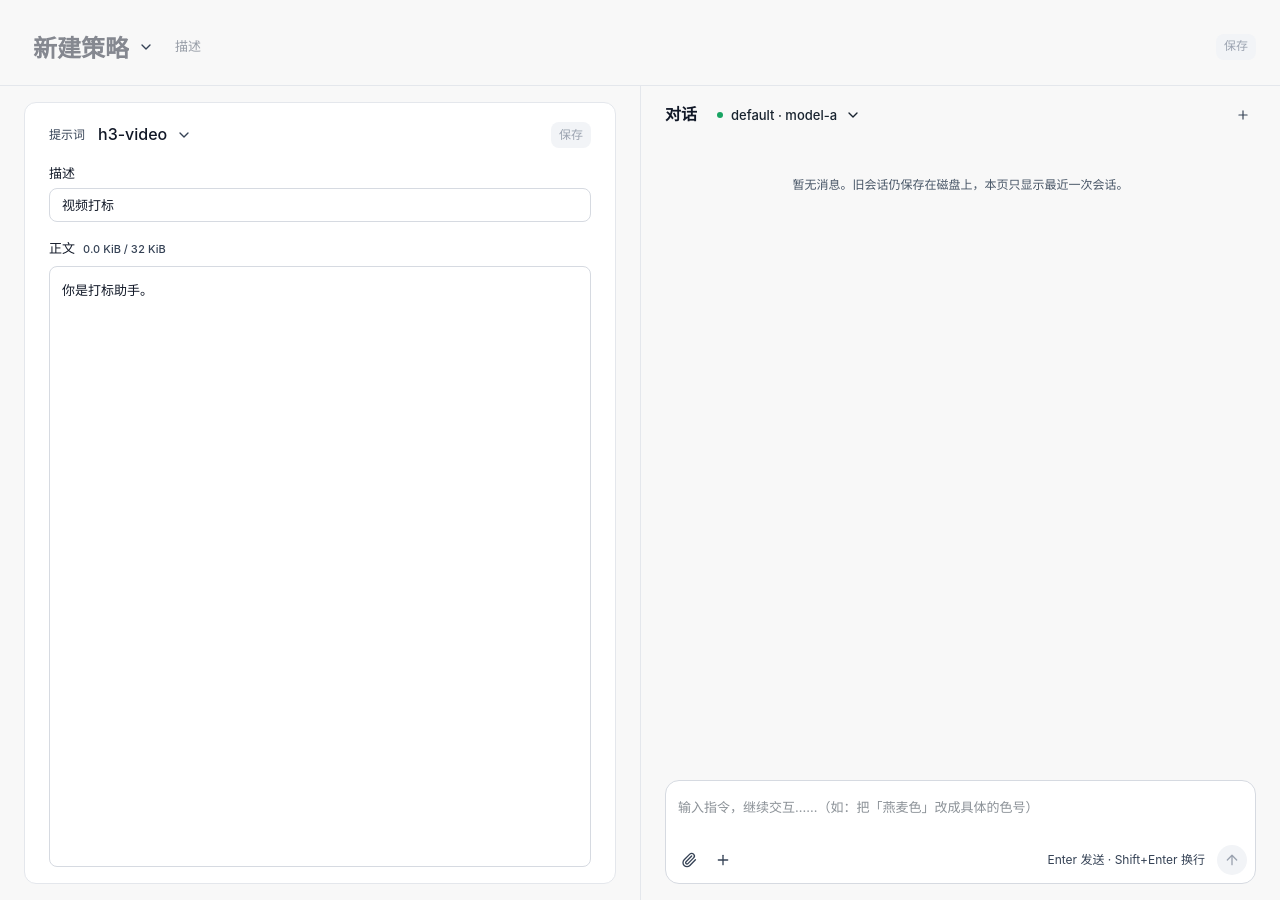
it: PromptWorkbench › 提示词草稿锁定策略切换，保存后应用完整组合
expect the field named "名称" holds "h3-video": met, box [93,119,196,151]
Replace the text in the field labelled "描述" below "提示词" with "新描述": (320, 205) [49,188,591,222]
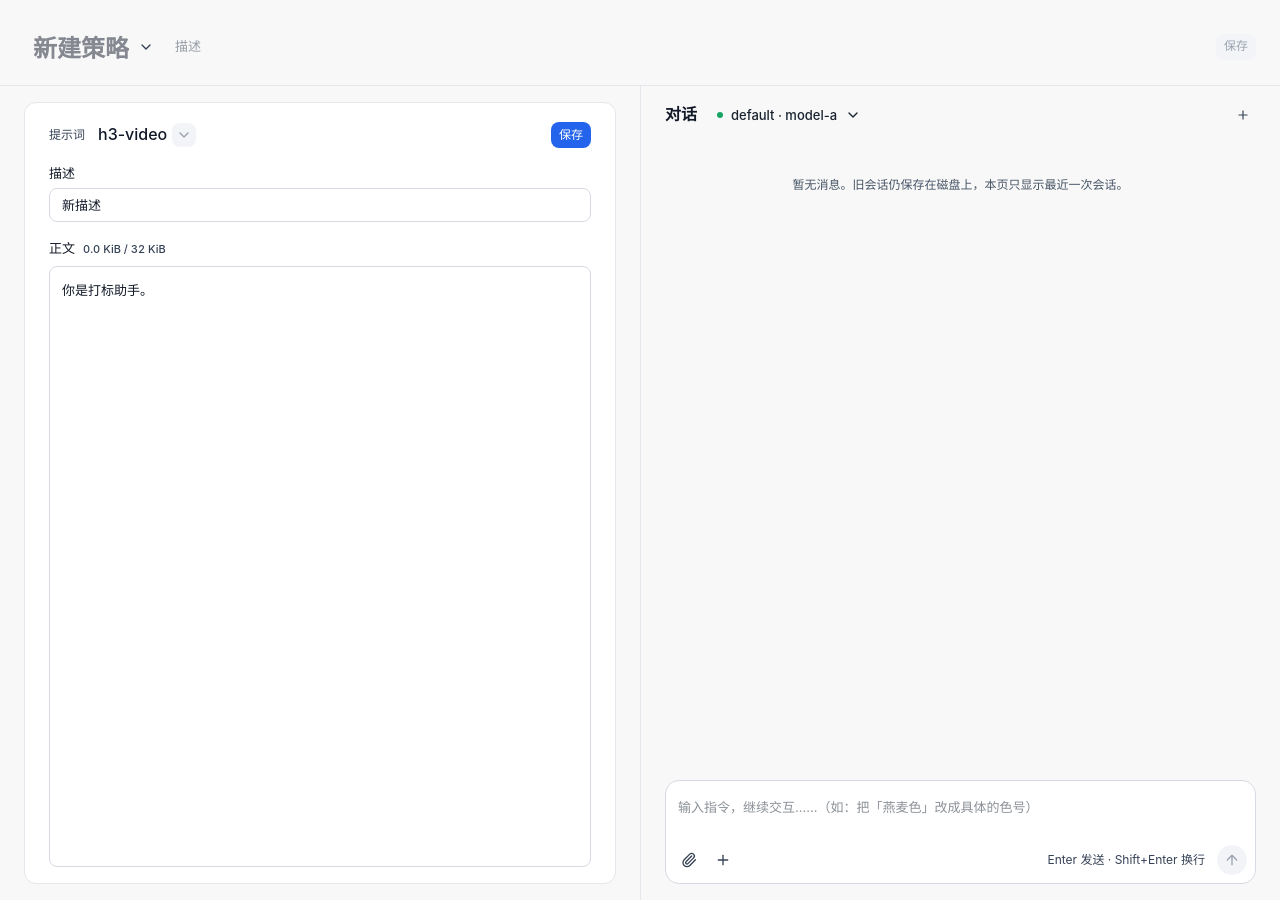
expect the button named "切换提示词" is disabled: met, box [172,123,196,147]
Click the button "保存" in the row of "提示词": (571, 135) [551,122,591,148]
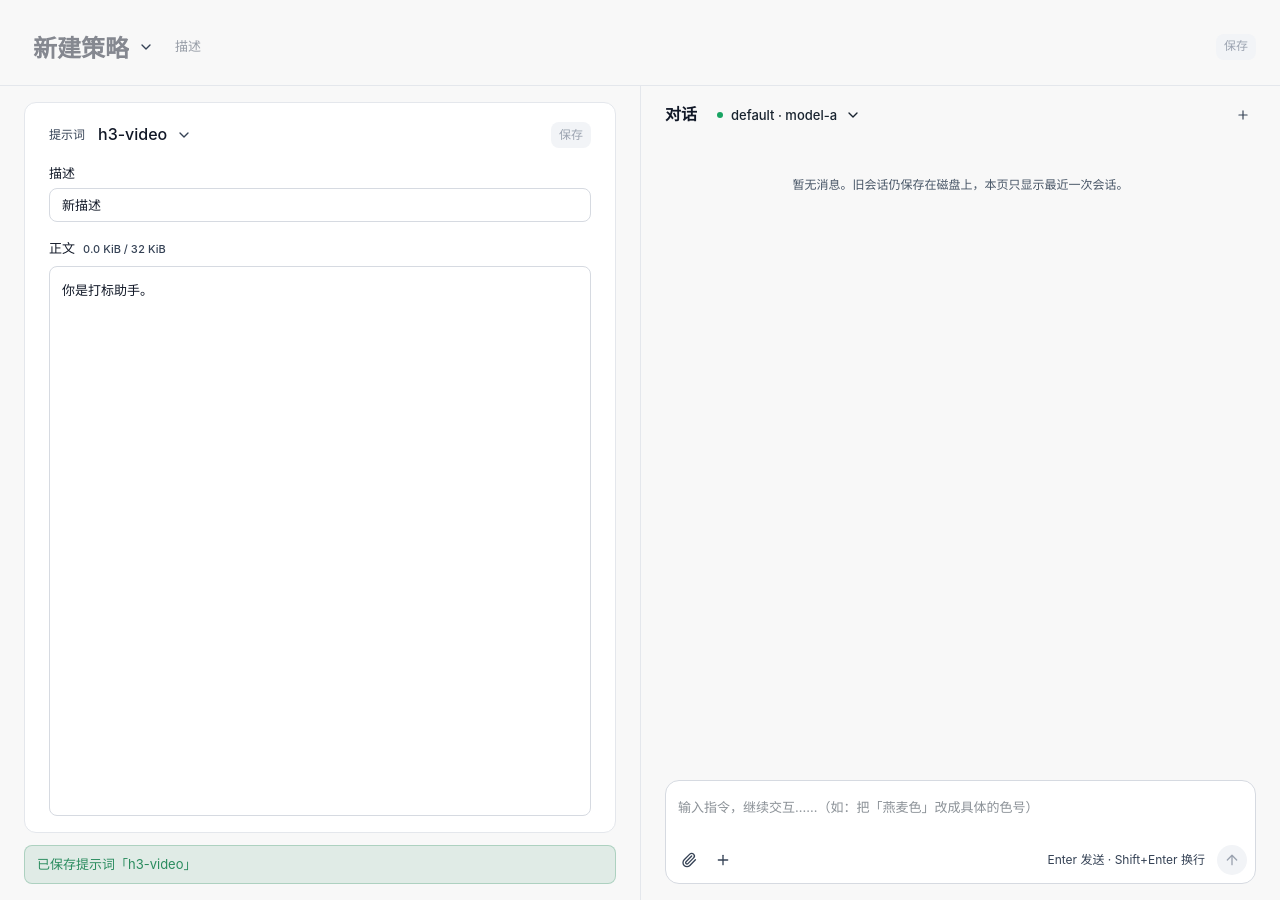
Click the button named "切换策略": (146, 46) [134,34,158,58]
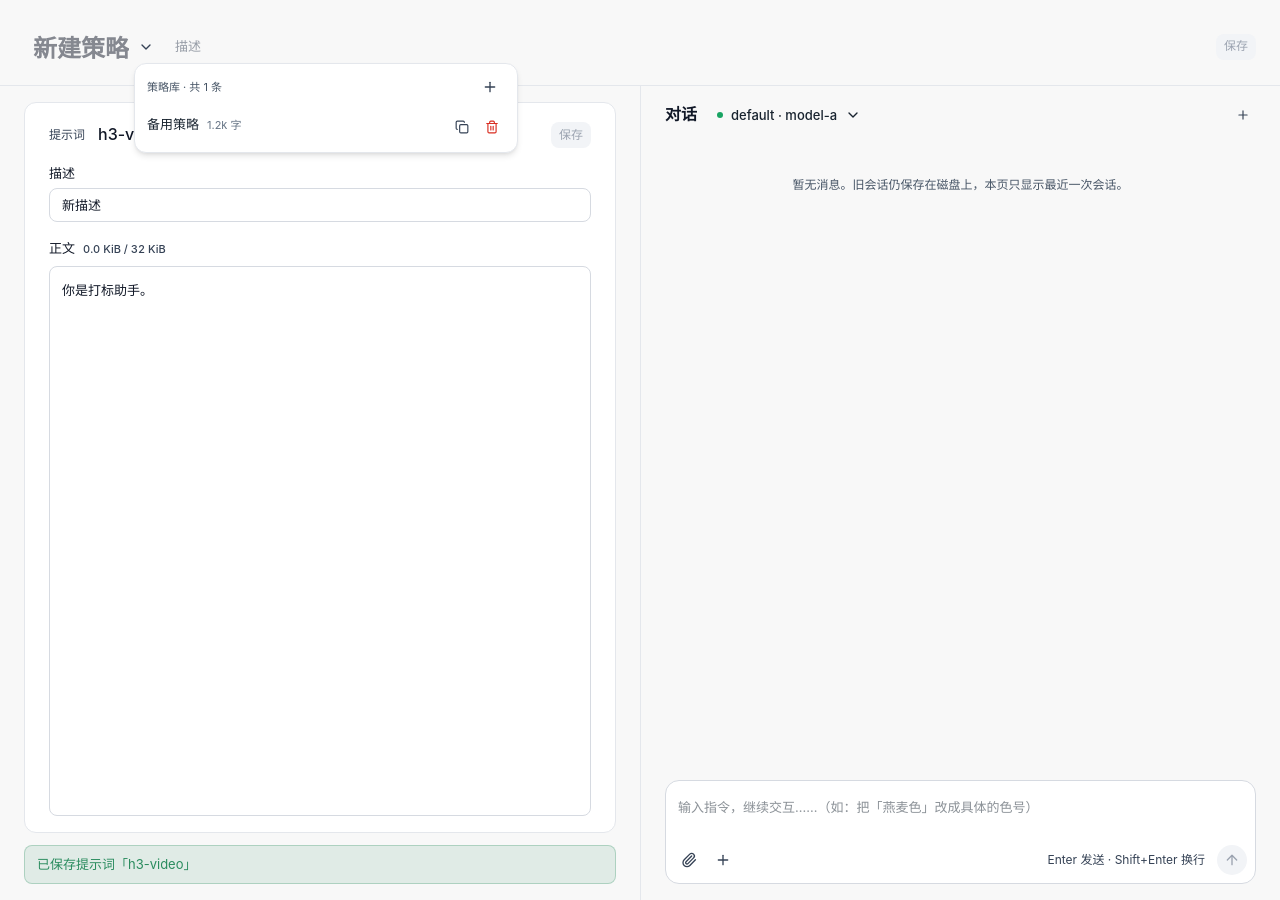
Click the button "备用策略 1.2k 字": (173, 124) [147,114,445,134]
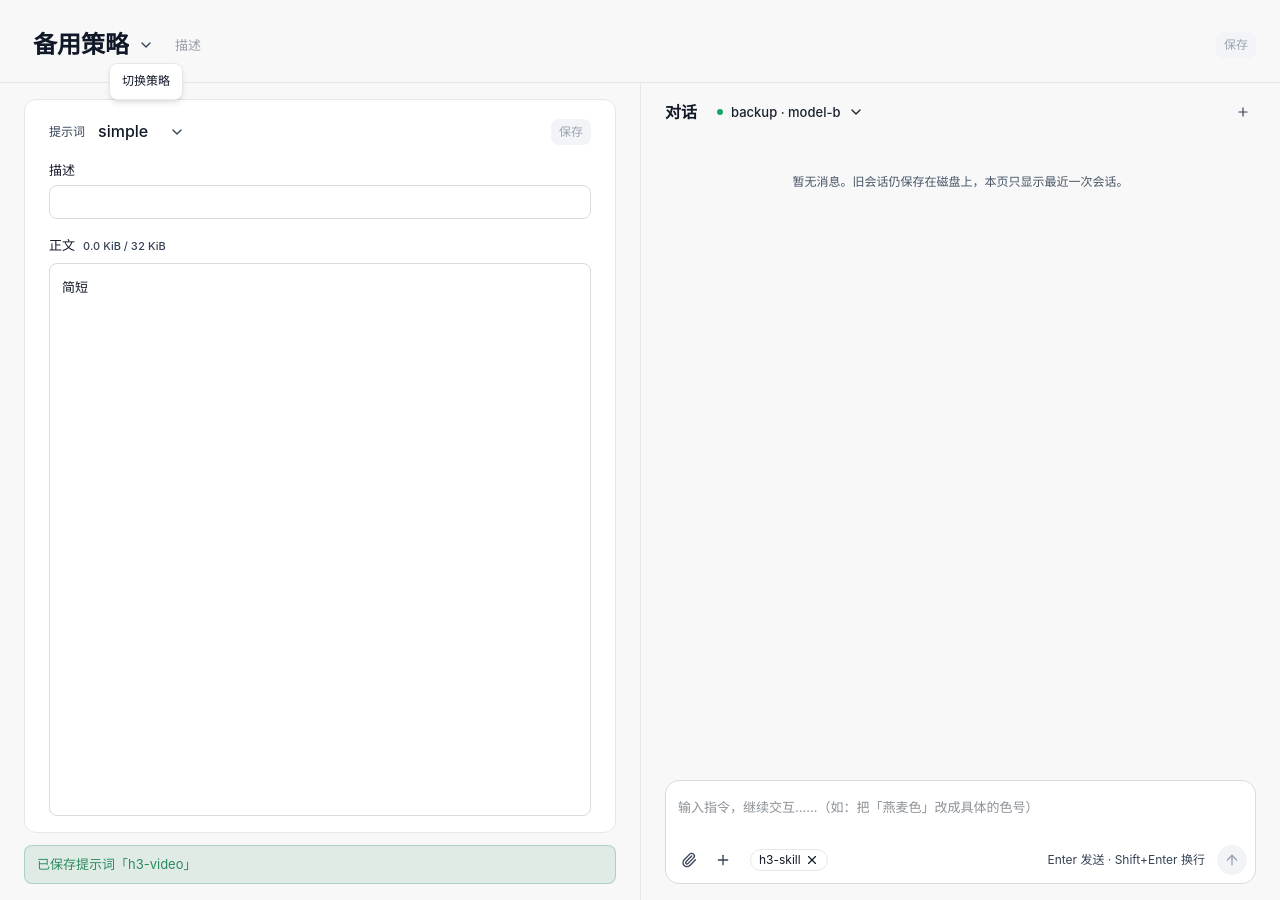
expect the field named "名称" holds "simple": met, box [93,116,189,148]
expect the text "backup · model-b" is shown: met, box [731,102,840,122]
expect the button named "移除 Skill h3-skill" is shown: met, box [805,853,819,867]
